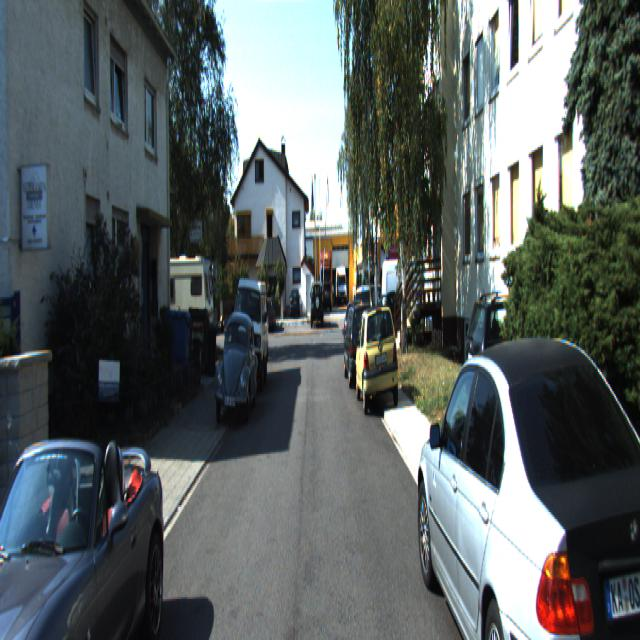Car: (412, 323, 640, 638), (0, 403, 174, 638), (462, 280, 606, 421), (134, 258, 222, 365), (210, 309, 260, 420), (354, 306, 399, 418), (231, 271, 270, 391), (381, 253, 436, 324), (342, 303, 380, 390), (310, 282, 324, 330)
